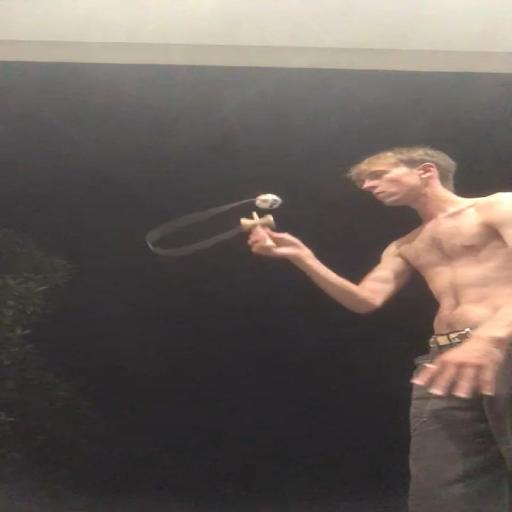kendama_ball: (254, 193, 282, 209)
